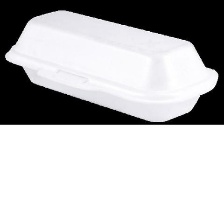foam_box: (0, 5, 224, 124)
